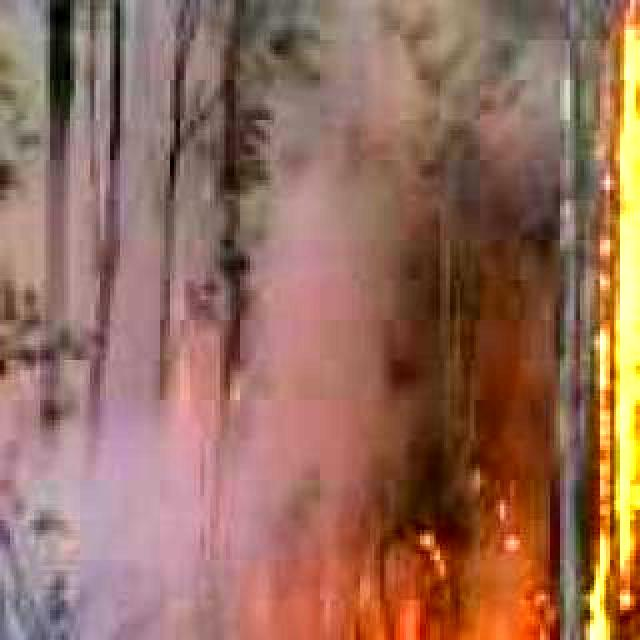fire: (600, 0, 640, 636)
